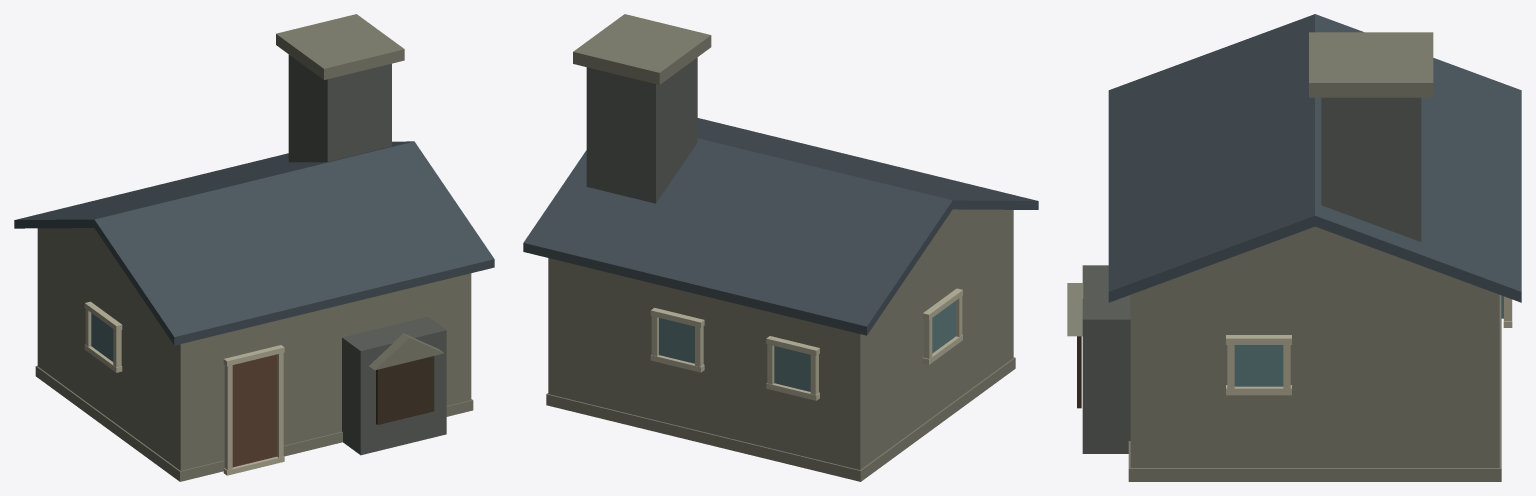
Rendered from Building_Settlement_StoneForge_001_LOD1.glb.
3 views of the same model, side by side, from view 1: azimuth 30°, elevation 25°; view 2: azimuth 150°, elevation 25°; view 3: azimuth 270°, elevation 25° (orthographic). The views are drawn at different scales.
Parts seen in each view (by area): view 1: Building_Settlement_StoneForge_001_LOD1; view 2: Building_Settlement_StoneForge_001_LOD1; view 3: Building_Settlement_StoneForge_001_LOD1.
Part boxes in pixels (x1,y1,x2,y2): Building_Settlement_StoneForge_001_LOD1: (14, 14, 494, 481); Building_Settlement_StoneForge_001_LOD1: (523, 14, 1038, 481); Building_Settlement_StoneForge_001_LOD1: (1067, 14, 1521, 481).
Size of the model in its own units: 5.95 by 5.51 by 5.66.
